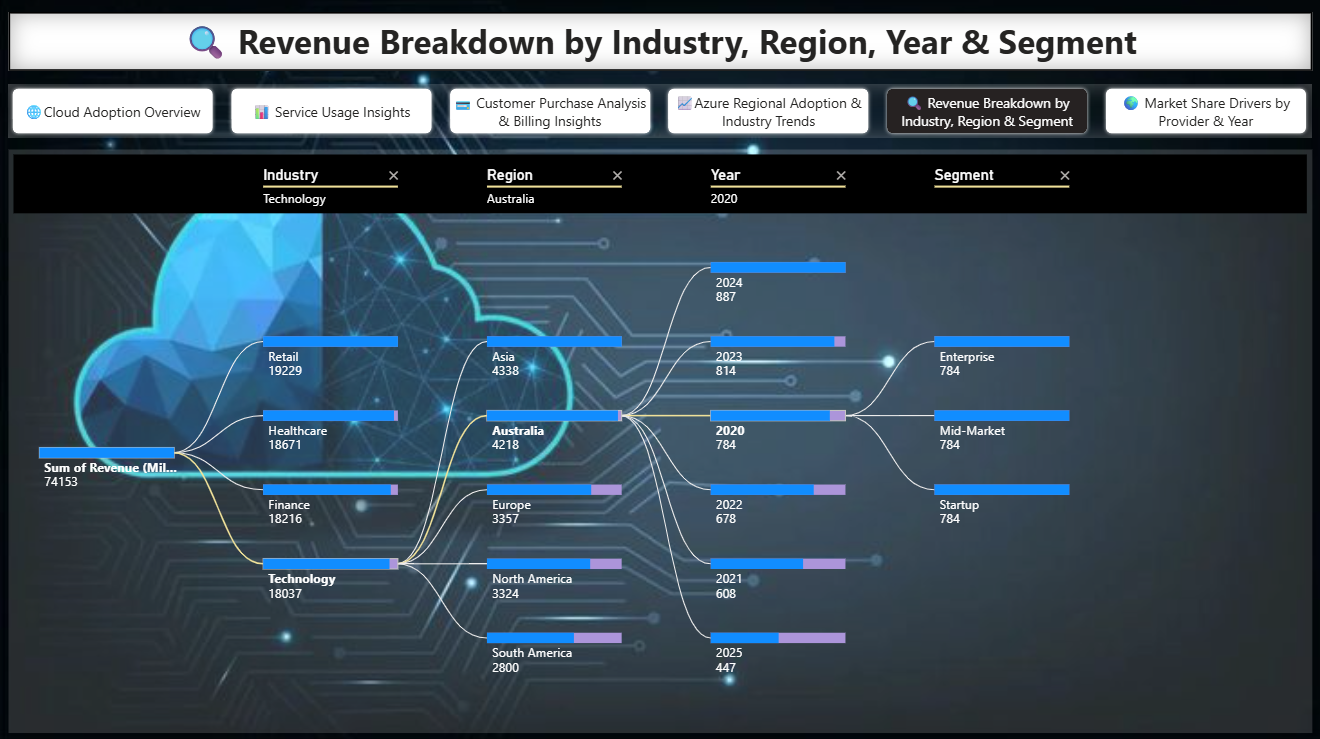

This screenshot's page, from the dashboard's own definition file:
{"tool":"powerbi","page":{"name":"🔍 Revenue Breakdown by Industry, Region & Segment","canvas":[1280,720],"ordinal":4},"visuals":[{"type":"decompositionTreeVisual","fields":{"ExplainBy":["azure_revenue_extended.Industry","azure_revenue_extended.Region","azure_revenue_extended.Year","azure_customer_segments_extended.Segment"],"Analyze":["Sum(azure_revenue_extended.Revenue (Million USD))"]},"box":[12.1,147.2,1258.3,563.4],"z":0},{"type":"pageNavigator","box":[12.1,84.5,1258.3,51.9],"z":1000},{"type":"textbox","box":[12.1,14.5,1258.3,56.7],"z":2000}]}

Visuals, with their boxes in screenshot pixels (x1, y1, x2, y2), scaled from the page's 1280x720 canvas onto the 1320x739 screenshot:
decompositionTreeVisual - azure_revenue_extended.Industry x azure_revenue_extended.Region: <bbox>12, 151, 1310, 729</bbox>
pageNavigator: <bbox>12, 87, 1310, 140</bbox>
textbox: <bbox>12, 15, 1310, 73</bbox>
